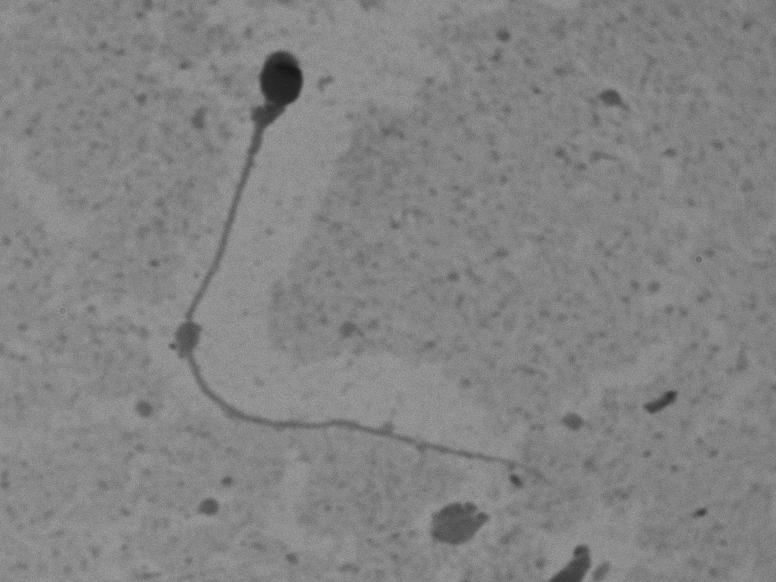Abnormal: (124, 39, 624, 502)
